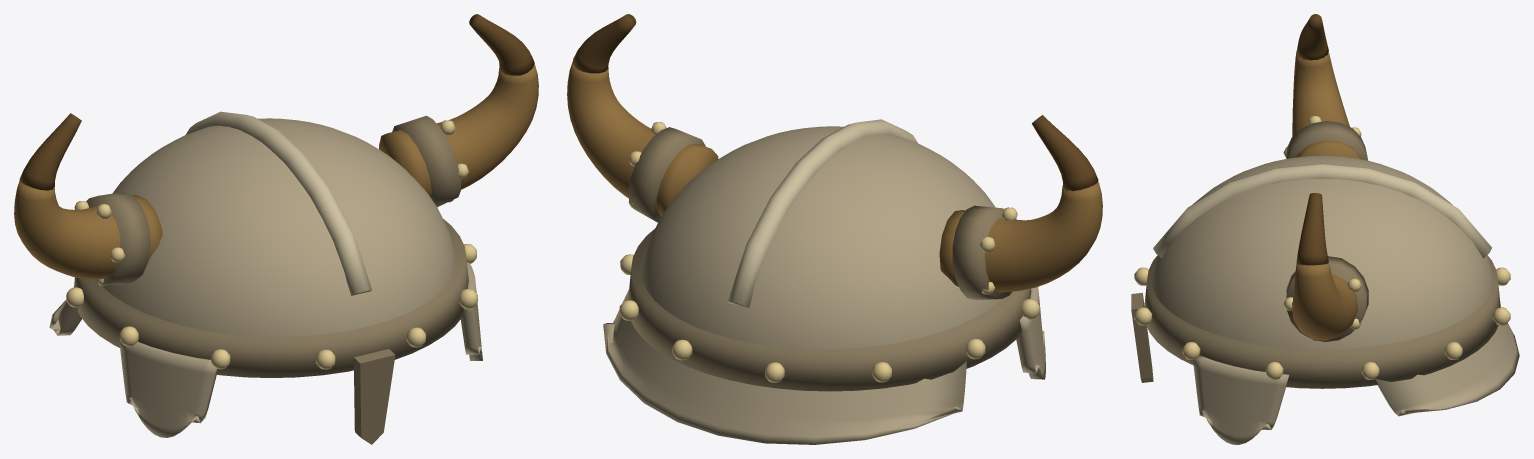
File: coiffe-bworker.glb
3 renders of one model, left to right at view 1: azimuth 30°, elevation 25°; view 2: azimuth 150°, elevation 25°; view 3: azimuth 270°, elevation 25°, orthographic. The views are drawn at different scales.
Visible parts, largest first — view 1: casque, casque_bord, corne.001, corne, garde_joue, crete, nasal, anneau_corne, anneau_corne.001, corne_pointe, corne_pointe.001, garde_joue.001 (+1 smaller); view 2: casque, couvre_nuque, casque_bord, corne, corne.001, crete, anneau_corne, anneau_corne.001, corne_pointe, corne_pointe.001, garde_joue; view 3: casque, casque_bord, couvre_nuque, garde_joue.001, crete, corne.001, corne, corne_pointe.001, anneau_corne, anneau_corne.001, corne_pointe, nasal.
Boxes of the visible parts, x1,y1,x2,y2 form: casque: [102, 118, 456, 336]; casque_bord: [74, 219, 468, 377]; corne.001: [379, 64, 538, 197]; corne: [14, 180, 162, 279]; garde_joue: [119, 336, 217, 437]; crete: [185, 111, 371, 295]; nasal: [353, 349, 395, 444]; anneau_corne: [86, 192, 150, 284]; anneau_corne.001: [392, 115, 460, 206]; corne_pointe: [19, 113, 81, 190]; corne_pointe.001: [469, 14, 534, 75]; garde_joue.001: [460, 262, 482, 360]; casque: [641, 126, 1001, 349]; couvre_nuque: [603, 289, 966, 444]; casque_bord: [628, 228, 1031, 391]; corne: [939, 182, 1102, 292]; corne.001: [567, 61, 718, 215]; crete: [728, 119, 917, 307]; anneau_corne: [952, 205, 1016, 300]; anneau_corne.001: [628, 127, 705, 222]; corne_pointe: [1032, 115, 1098, 191]; corne_pointe.001: [573, 14, 636, 73]; garde_joue: [1016, 287, 1045, 379]; casque: [1151, 155, 1493, 349]; casque_bord: [1144, 255, 1500, 388]; couvre_nuque: [1375, 323, 1519, 416]; garde_joue.001: [1193, 355, 1289, 444]; crete: [1153, 163, 1491, 258]; corne.001: [1292, 257, 1358, 340]; corne: [1292, 51, 1361, 159]; corne_pointe.001: [1296, 193, 1328, 265]; anneau_corne: [1286, 121, 1368, 160]; anneau_corne.001: [1286, 256, 1368, 341]; corne_pointe: [1296, 14, 1328, 60]; nasal: [1131, 292, 1153, 382].
Bounding box in the file's own units: 1.61 × 0.9228 × 1.16.
